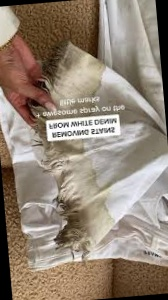earth: (53, 174, 111, 233), (53, 55, 98, 92), (47, 141, 86, 170)
